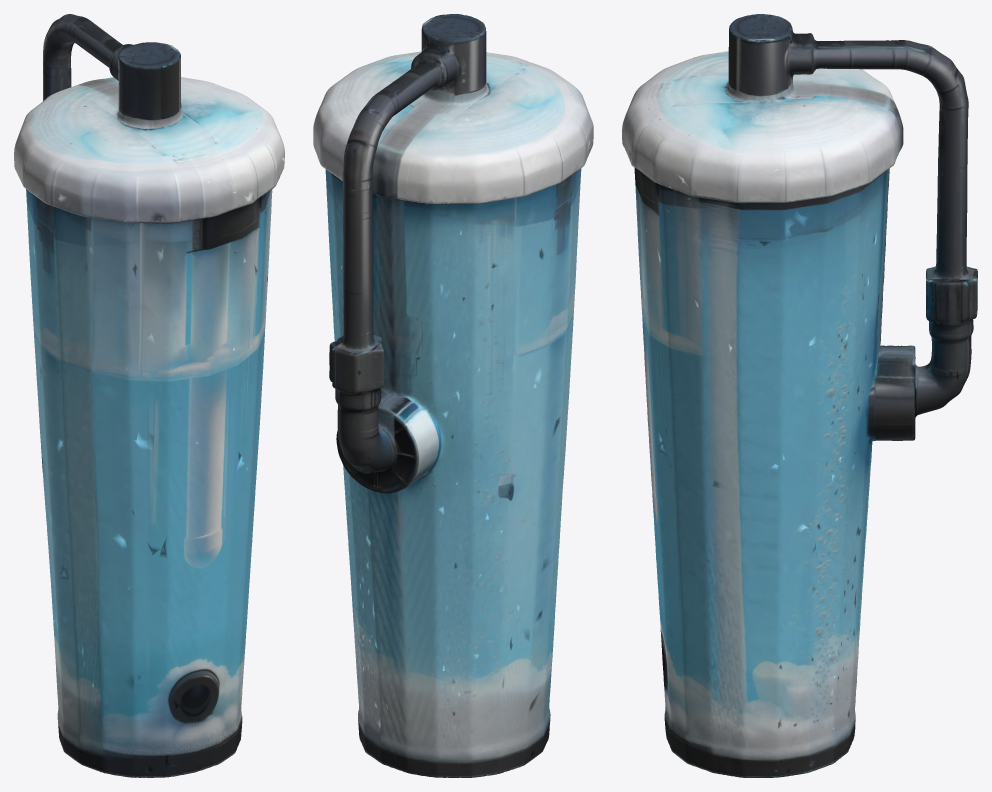
Rendered from skimmer.glb.
3 views of the same model, side by side, from view 1: azimuth 30°, elevation 25°; view 2: azimuth 150°, elevation 25°; view 3: azimuth 270°, elevation 25° (orthographic). The views are drawn at different scales.
Size of the model in its own units: 0.706 by 2 by 0.9074.
Materials: 1 (1 with a texture image).
